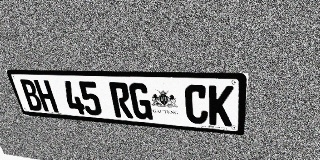4: (61, 81, 86, 115)
5: (78, 81, 103, 116)
B: (18, 79, 44, 111)
C: (184, 84, 208, 124)
G: (128, 83, 153, 120)
H: (33, 80, 59, 112)
K: (209, 85, 234, 126)
R: (108, 82, 133, 118)
